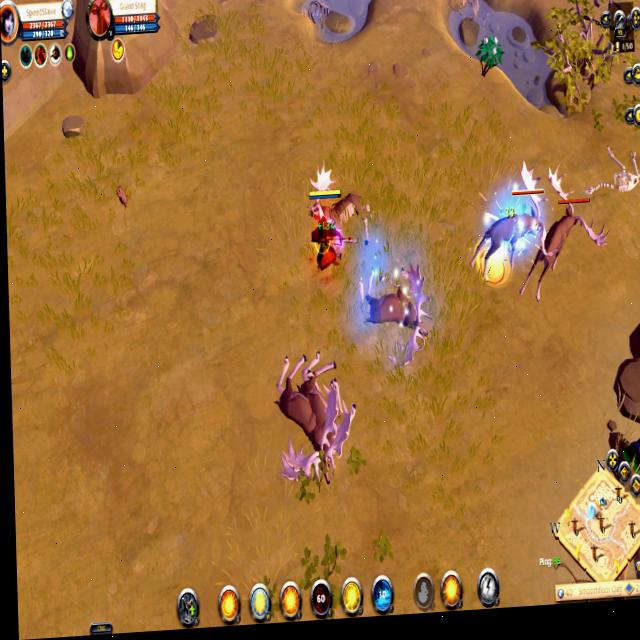hide: (475, 30, 503, 77)
mob: (271, 346, 362, 491), (357, 251, 436, 372), (303, 157, 382, 249)
ore: (513, 152, 614, 306), (466, 160, 551, 289)
red: (306, 186, 344, 273)
